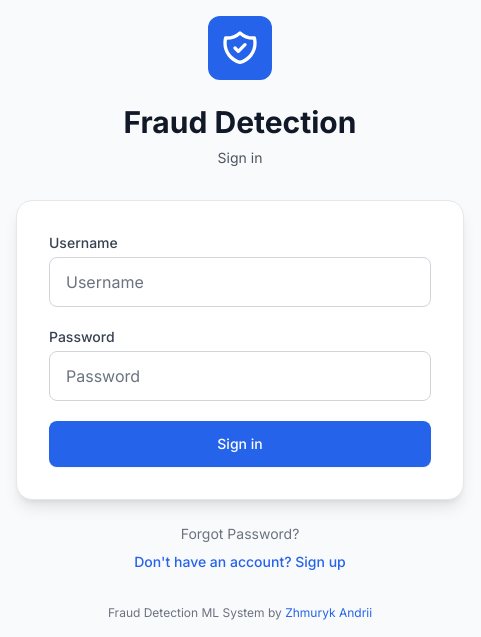
Test: Login Component › Mode Switching › switches to forgot password mode
What coordinates should you click on to do the following:
click the button "Forgot Password?"
I would click on:
 (240, 534)
Its box is [16, 524, 464, 544].
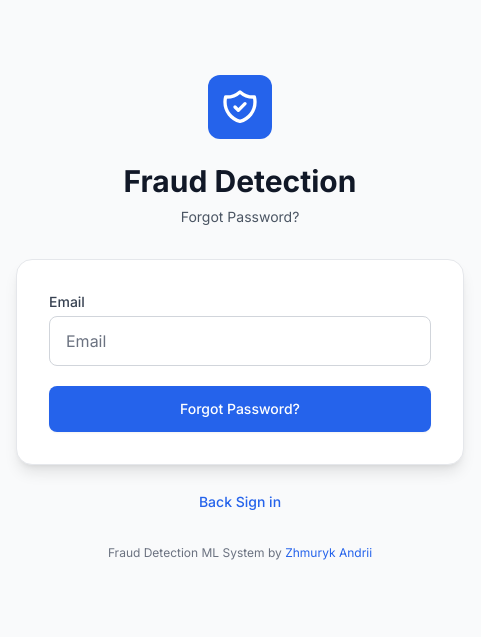
Expected: the field labelled "Email" is shown, [49, 316, 431, 366]
Expected: the label labelled "Username" is gone
